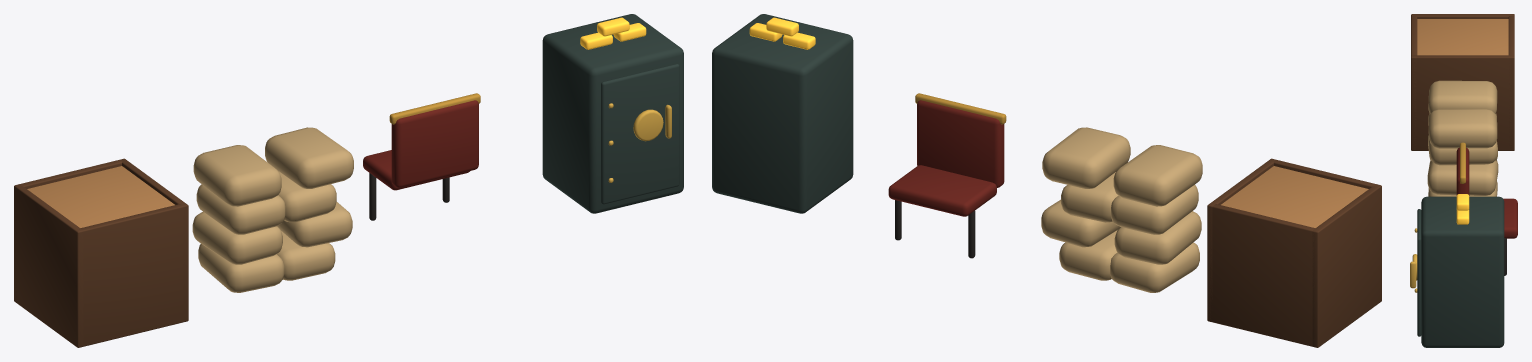
File: train_props.glb
3 renders of one model, left to right at view 1: azimuth 30°, elevation 25°; view 2: azimuth 150°, elevation 25°; view 3: azimuth 270°, elevation 25°, orthographic. The views are drawn at different scales.
Visible parts, largest first — view 1: v_body, cf1-1, v_door, cf0-1, seat_back, crate_body, bag31, bag30, bag10, bag20, bag00, bag11 (+7 smaller); view 2: v_body, cf11, cf0-1, seat_back, crate_body, bag30, bag31, seat_cush, bag10, bag00, bag20, bag11 (+5 smaller); view 3: v_body, cf01, crate_body, bag31, bag30, bag11, bag21, v_door, seat_cush, cf1-1, cf11, cf0-1 (+7 smaller).
Part boxes in pixels (left/top/right/bottom): v_body: left=542, top=14, right=683, bottom=213; cf1-1: left=76, top=203, right=188, bottom=347; v_door: left=601, top=64, right=679, bottom=204; cf0-1: left=14, top=184, right=83, bottom=347; seat_back: left=391, top=100, right=478, bottom=187; crate_body: left=27, top=166, right=174, bottom=227; bag31: left=265, top=127, right=353, bottom=188; bag30: left=193, top=145, right=281, bottom=206; bag10: left=192, top=212, right=282, bottom=264; bag20: left=196, top=184, right=285, bottom=234; bag00: left=198, top=244, right=284, bottom=292; bag11: left=277, top=202, right=352, bottom=247; v_body: left=712, top=14, right=853, bottom=213; cf11: left=1208, top=203, right=1319, bottom=347; cf0-1: left=1312, top=184, right=1381, bottom=347; seat_back: left=917, top=100, right=1004, bottom=187; crate_body: left=1221, top=166, right=1368, bottom=227; bag30: left=1113, top=145, right=1202, bottom=206; bag31: left=1042, top=127, right=1130, bottom=188; seat_cush: left=888, top=165, right=996, bottom=216; bag10: left=1114, top=211, right=1201, bottom=264; bag00: left=1110, top=242, right=1199, bottom=292; bag20: left=1111, top=185, right=1198, bottom=234; bag11: left=1041, top=199, right=1120, bottom=247; v_body: left=1421, top=196, right=1504, bottom=347; cf01: left=1411, top=55, right=1514, bottom=150; crate_body: left=1417, top=19, right=1508, bottom=55; bag31: left=1428, top=109, right=1497, bottom=148; bag30: left=1428, top=80, right=1497, bottom=113; bag11: left=1427, top=160, right=1498, bottom=195; bag21: left=1428, top=134, right=1497, bottom=165; v_door: left=1417, top=209, right=1421, bottom=336; seat_cush: left=1503, top=198, right=1517, bottom=238; cf1-1: left=1411, top=14, right=1417, bottom=150; cf11: left=1508, top=14, right=1514, bottom=150; cf0-1: left=1411, top=14, right=1514, bottom=18.
Size of the model in its own units: 5.53 by 1.41 by 1.04.
